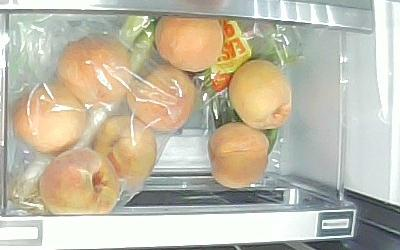peach: (39, 149, 119, 213), (231, 60, 293, 127), (210, 122, 268, 186), (156, 19, 222, 71)
peach_vinyl: (59, 35, 133, 103), (15, 85, 88, 152), (126, 64, 198, 129), (94, 117, 158, 180)
